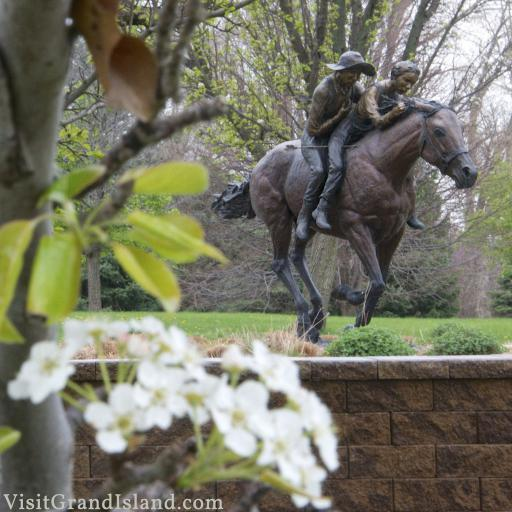Horse: (210, 94, 480, 340)
